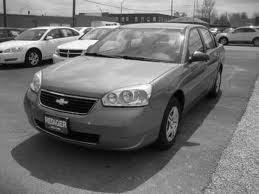car: (24, 22, 227, 158)
